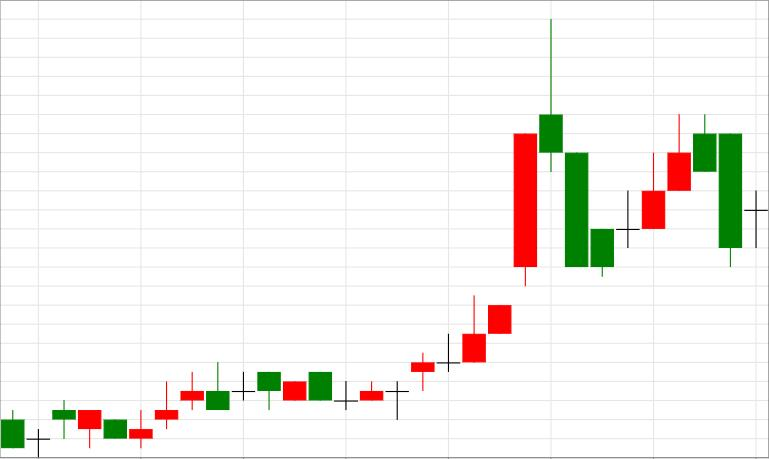shooting_star_fall: (361, 18, 562, 419)
